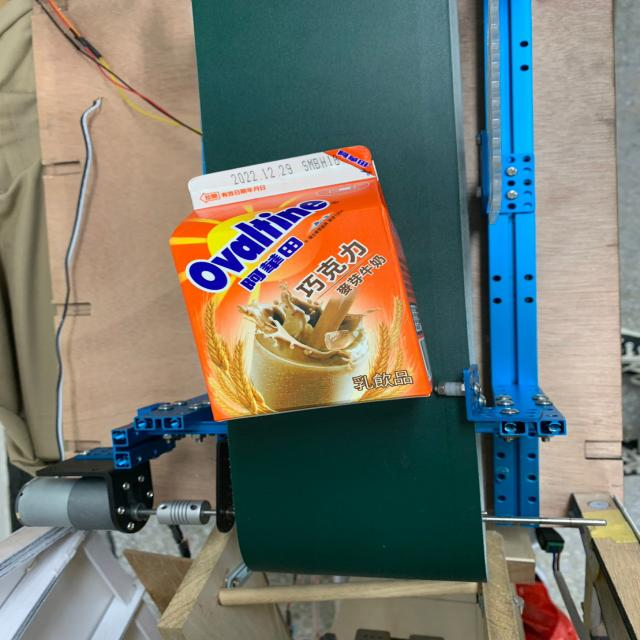non_white_jug: (145, 135, 450, 443)
